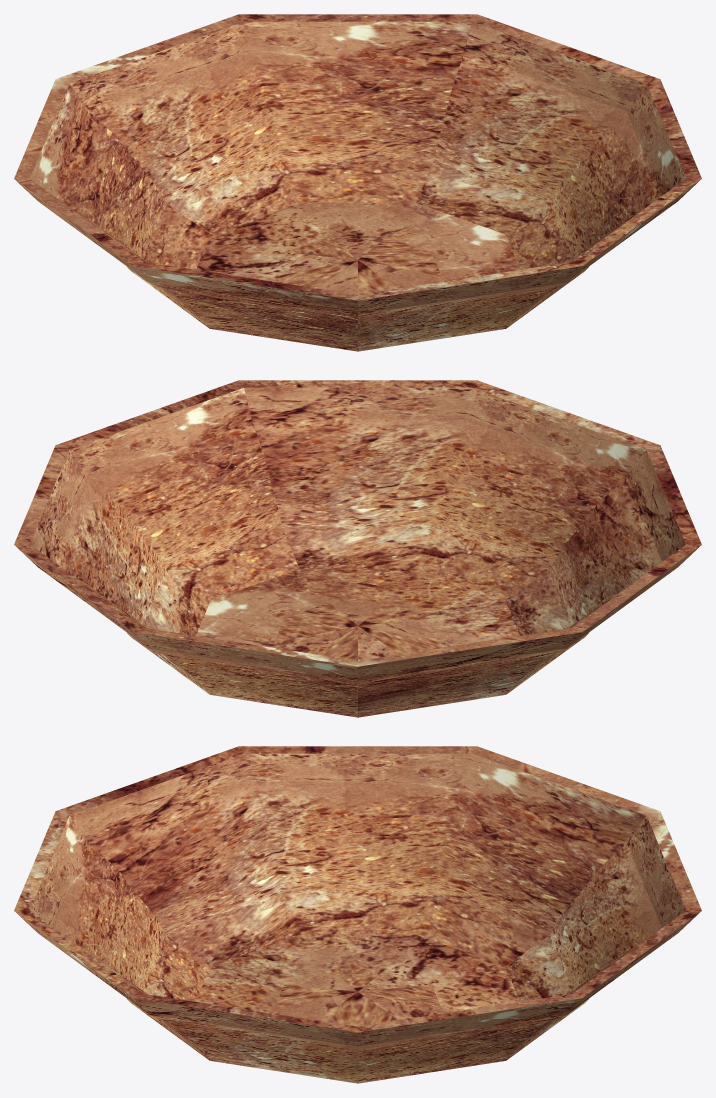
File: plate.FBX
3 renders of one model, top to bottom at view 1: azimuth 30°, elevation 25°; view 2: azimuth 150°, elevation 25°; view 3: azimuth 270°, elevation 25°, orthographic.
Visible parts, largest first — view 1: plate; view 2: plate; view 3: plate.
Part boxes in pixels (<box>): plate: <box>14,14,701,351</box>; plate: <box>14,380,701,717</box>; plate: <box>14,746,701,1083</box>.
Size of the model in its own units: 37.82 by 7.51 by 38.4.
Materials: 1 (1 with a texture image).
